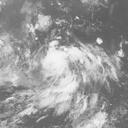cyclone: (38, 39, 96, 95)
